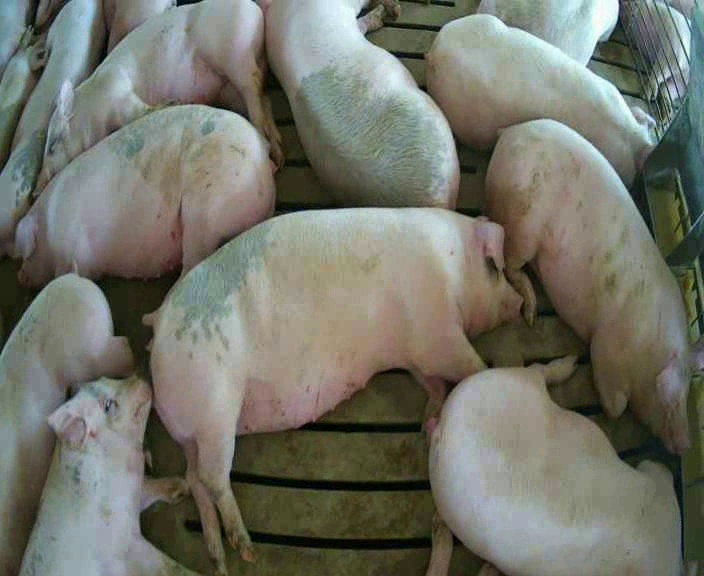pig: (143, 208, 521, 572), (486, 119, 703, 452), (426, 357, 697, 575), (9, 105, 274, 285), (36, 2, 282, 193), (265, 3, 458, 208), (426, 16, 655, 183), (21, 376, 194, 574), (0, 2, 105, 255), (477, 1, 618, 64), (0, 28, 48, 167), (103, 0, 176, 52)
